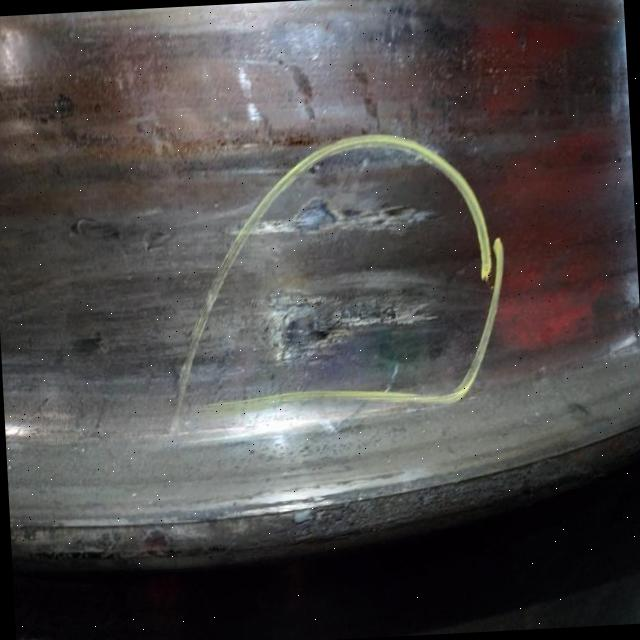Rollerpile: (269, 192, 443, 368)
